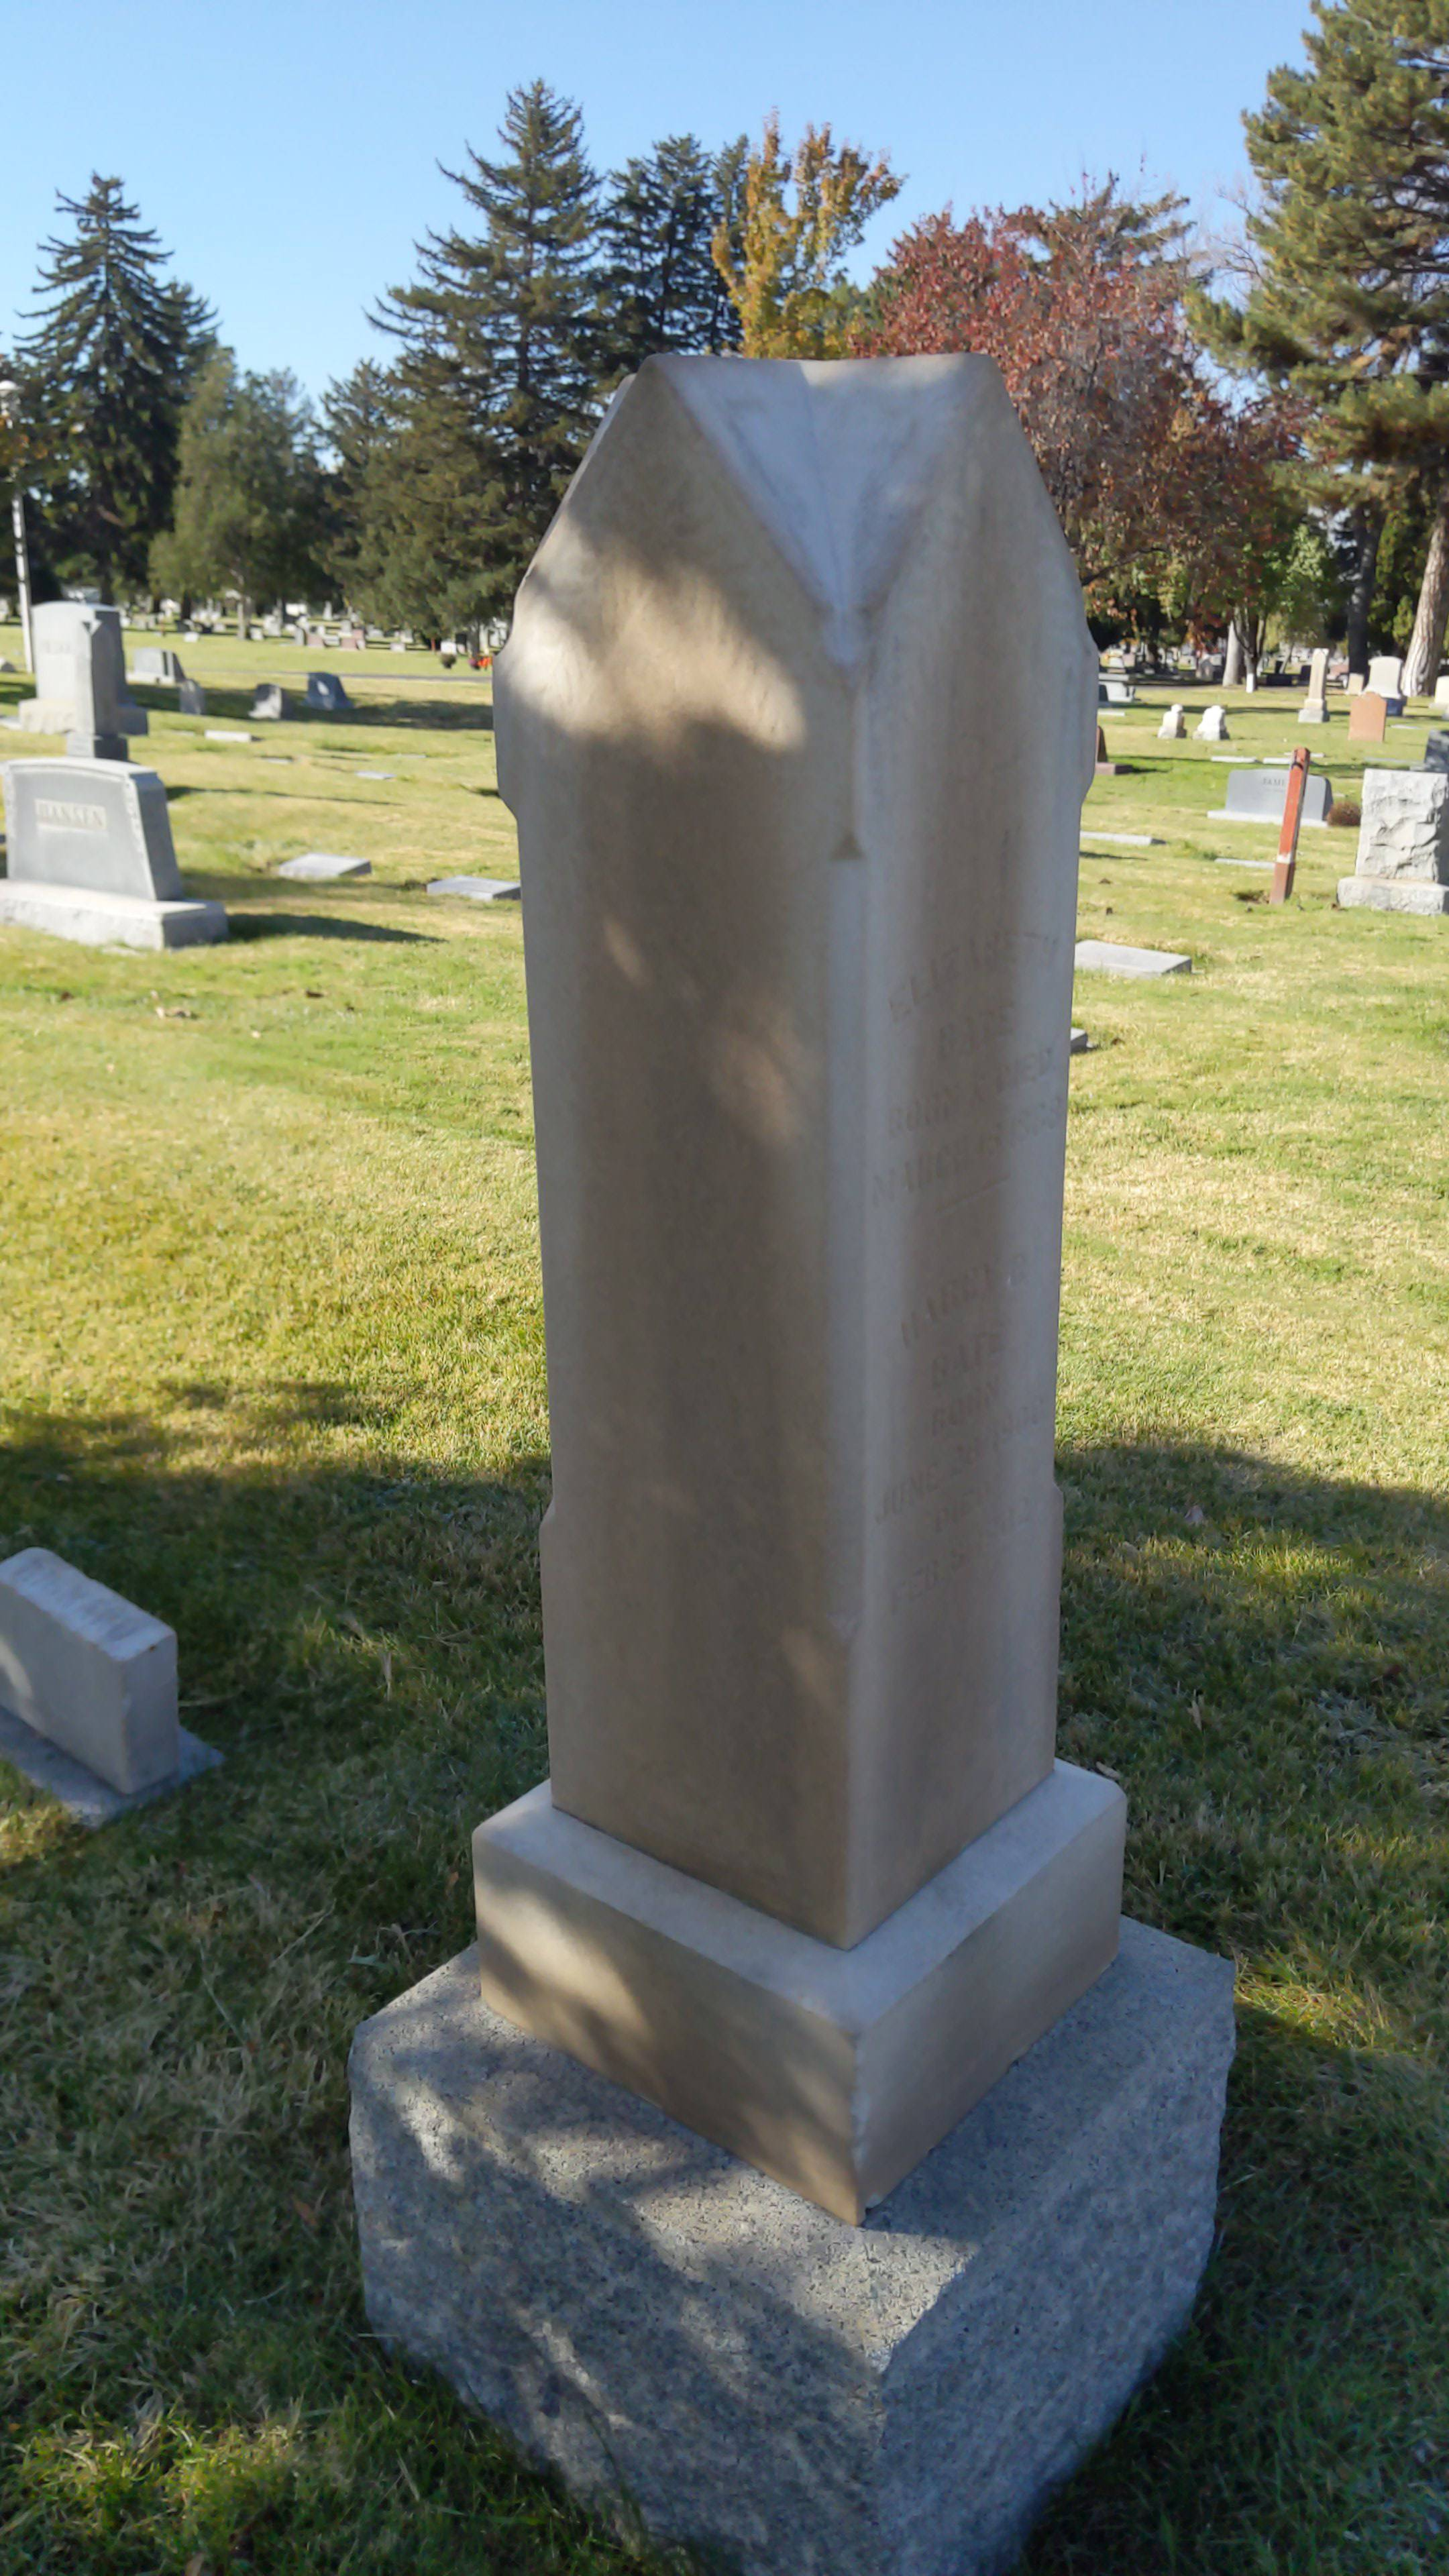obelisk: (478, 350, 1122, 2240)
